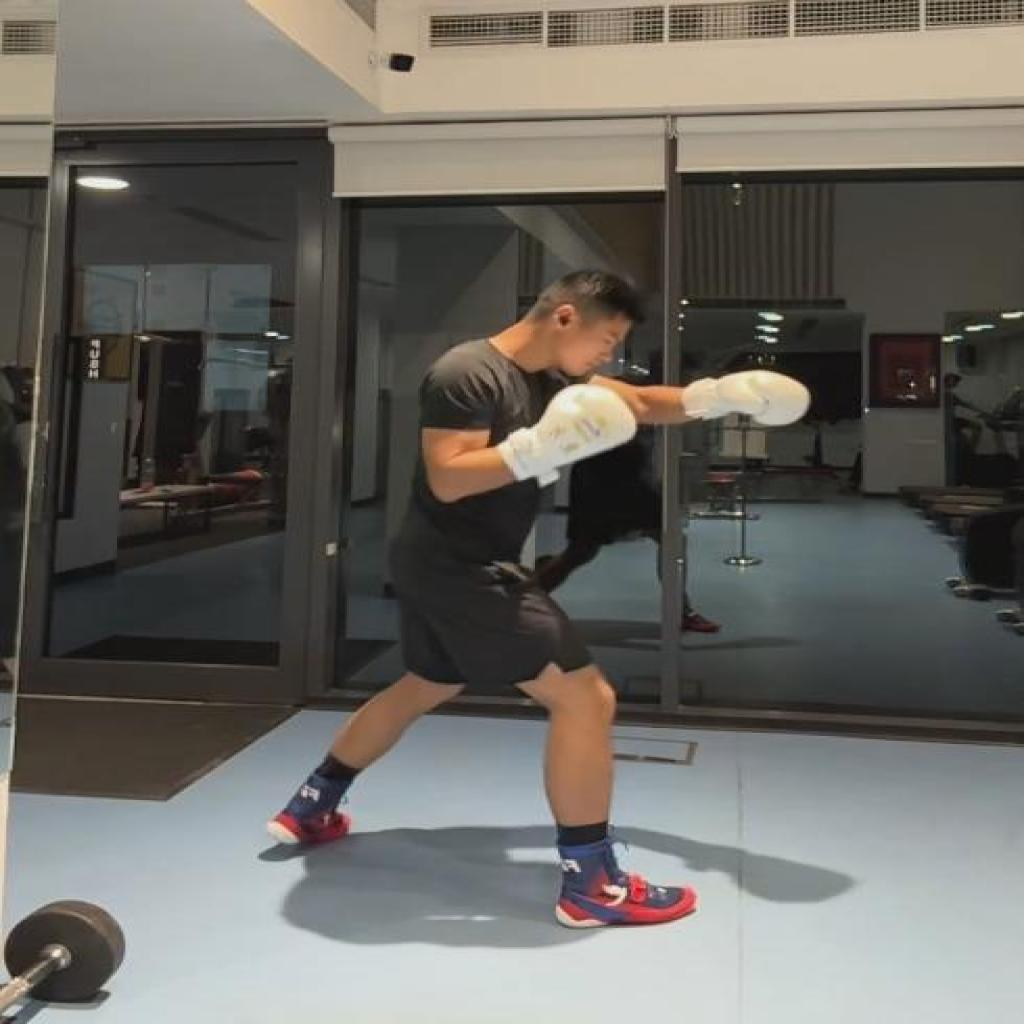cross: (270, 270, 813, 934)
